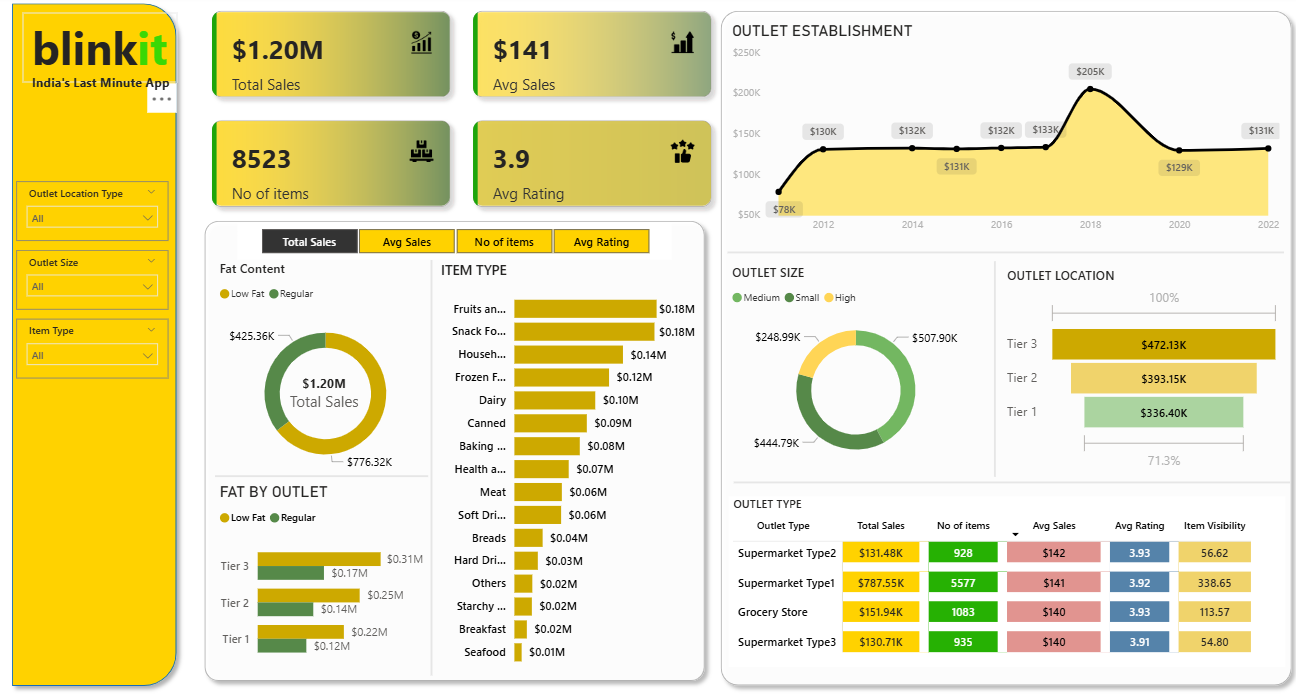

What the dashboard file says about the page in this screenshot:
{"tool":"powerbi","page":{"name":"Page 1","canvas":[1400,800],"ordinal":0},"visuals":[{"type":"shape","box":[10,0,194.3,750],"z":0},{"type":"textbox","box":[262.9,678.6,165.7,71.4],"z":1000},{"type":"textbox","box":[30,18.6,165.7,75.7],"z":2000},{"type":"textbox","box":[22.9,78.6,181.4,31.4],"z":3000},{"type":"cardVisual","fields":{"Data":["BlinkIT Grocery Data.Total Sales","BlinkIT Grocery Data.Avg Sales","BlinkIT Grocery Data.No of items","BlinkIT Grocery Data.Avg Rating"]},"box":[215.7,0,570,244.3],"z":4000},{"type":"shape","box":[215.7,232.9,554.3,511.4],"z":5000},{"type":"donutChart","title":" Fat Content","fields":{"Y":["BlinkIT Grocery Data.Total Sales"],"Category":["BlinkIT Grocery Data.Item Fat Content"]},"box":[235.7,284.3,237.1,241.4],"z":6000},{"type":"slicer","fields":{"Values":["Metrics.Metrics"]},"box":[260,244.3,465.7,40],"z":7000},{"type":"cardVisual","fields":{"Data":["BlinkIT Grocery Data.Total Sales"]},"box":[285.7,385.7,135.7,81.4],"z":8000},{"type":"clusteredBarChart","title":"FAT BY OUTLET","fields":{"Y":["BlinkIT Grocery Data.Total Sales"],"Category":["BlinkIT Grocery Data.Outlet Location Type"],"Series":["BlinkIT Grocery Data.Item Fat Content"]},"box":[235.7,522.9,228.6,204.3],"z":9000},{"type":"shape","box":[235.7,507.1,228.6,18.6],"z":10000},{"type":"shape","box":[464.3,284.3,8.6,445.7],"z":11000},{"type":"barChart","title":"ITEM TYPE","fields":{"Y":["BlinkIT Grocery Data.Total Sales"],"Category":["BlinkIT Grocery Data.Item Type"]},"box":[472.9,284.3,282.9,445.7],"z":12000},{"type":"shape","box":[770,8.6,630,741.4],"z":13000},{"type":"lineChart","title":"OUTLET ESTABLISHMENT","fields":{"Category":["BlinkIT Grocery Data.Outlet Establishment Year"],"Y":["BlinkIT Grocery Data.Total Sales"]},"box":[785.7,28.6,597.1,235.7],"z":14000},{"type":"shape","box":[785.7,267.1,597.1,18.6],"z":15000},{"type":"donutChart","title":"OUTLET SIZE","fields":{"Y":["BlinkIT Grocery Data.Total Sales"],"Category":["BlinkIT Grocery Data.Outlet Size"]},"box":[785.7,288.6,275.7,225.7],"z":16000},{"type":"shape","box":[1062.9,285.7,18.6,231.4],"z":17000},{"type":"funnel","title":"OUTLET LOCATION","fields":{"Y":["BlinkIT Grocery Data.Total Sales"],"Category":["BlinkIT Grocery Data.Outlet Location Type"]},"box":[1080,291.4,302.9,222.9],"z":18000},{"type":"shape","box":[792.9,512.9,597.1,18.6],"z":19000},{"type":"pivotTable","title":"OUTLET TYPE","fields":{"Rows":["BlinkIT Grocery Data.Outlet Type"],"Values":["BlinkIT Grocery Data.Total Sales","BlinkIT Grocery Data.No of items","BlinkIT Grocery Data.Avg Sales","BlinkIT Grocery Data.Avg Rating","Sum(BlinkIT Grocery Data.Item Visibility)"]},"box":[787.1,537.1,597.1,182.9],"z":20000},{"type":"slicer","fields":{"Values":["BlinkIT Grocery Data.Outlet Location Type"]},"box":[22.9,200,162.9,64.3],"z":21000},{"type":"slicer","fields":{"Values":["BlinkIT Grocery Data.Outlet Size"]},"box":[22.9,272.9,162.9,64.3],"z":22000},{"type":"slicer","fields":{"Values":["BlinkIT Grocery Data.Item Type"]},"box":[22.9,347.1,162.9,64.3],"z":23000}]}

Visuals, with their boxes on the page's 1400x800 design canvas (x1, y1, x2, y2). These are canvas units, not pixel positions in the 1296x699 screenshot, which may show the page scaled, cropped or inside an application window:
shape: (10, 0, 204, 750)
textbox: (263, 679, 429, 750)
textbox: (30, 19, 196, 94)
textbox: (23, 79, 204, 110)
cardVisual - BlinkIT Grocery Data.Total Sales x BlinkIT Grocery Data.Avg Sales: (216, 0, 786, 244)
shape: (216, 233, 770, 744)
" Fat Content" donutChart: (236, 284, 473, 526)
slicer - Metrics.Metrics: (260, 244, 726, 284)
cardVisual - BlinkIT Grocery Data.Total Sales: (286, 386, 421, 467)
"FAT BY OUTLET" clusteredBarChart: (236, 523, 464, 727)
shape: (236, 507, 464, 526)
shape: (464, 284, 473, 730)
"ITEM TYPE" barChart: (473, 284, 756, 730)
shape: (770, 9, 1400, 750)
"OUTLET ESTABLISHMENT" lineChart: (786, 29, 1383, 264)
shape: (786, 267, 1383, 286)
"OUTLET SIZE" donutChart: (786, 289, 1061, 514)
shape: (1063, 286, 1082, 517)
"OUTLET LOCATION" funnel: (1080, 291, 1383, 514)
shape: (793, 513, 1390, 532)
"OUTLET TYPE" pivotTable: (787, 537, 1384, 720)
slicer - BlinkIT Grocery Data.Outlet Location Type: (23, 200, 186, 264)
slicer - BlinkIT Grocery Data.Outlet Size: (23, 273, 186, 337)
slicer - BlinkIT Grocery Data.Item Type: (23, 347, 186, 411)
